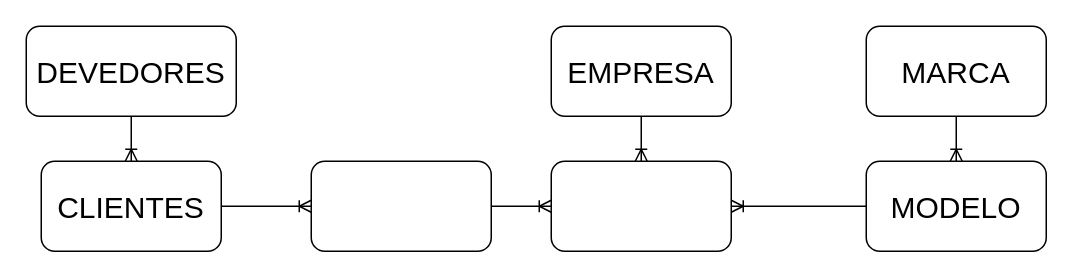
The diagram is 1073 pixels wide and 278 high, and some of its shapes have lost their labels. Each missing label, with the centre of its shape:
"ALUGUEIS" goes at point 400,205.
"VEICULOS" goes at point 640,205.
